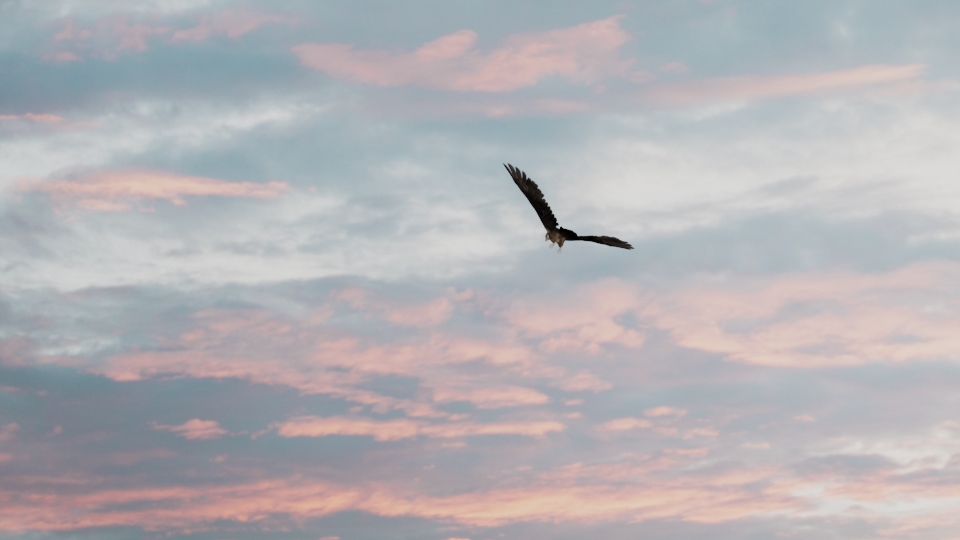bird: (500, 162, 630, 251)
